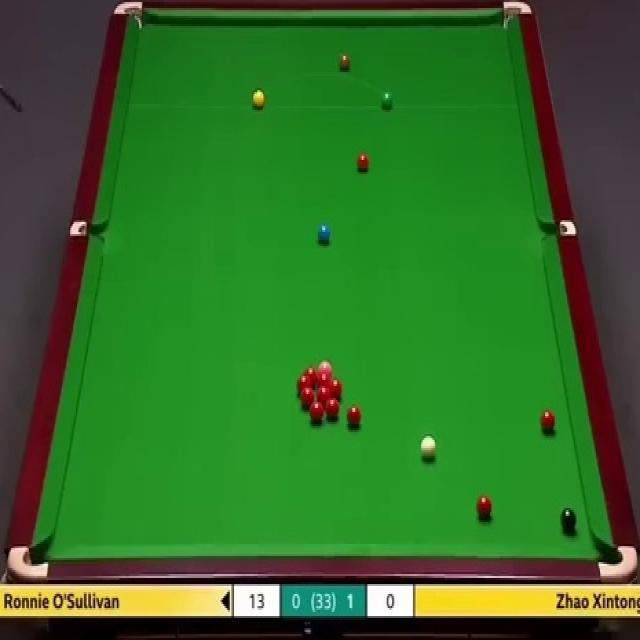black-ball: (560, 506, 577, 534)
blue-ball: (316, 223, 331, 246)
brown-ball: (339, 54, 352, 69)
green-ball: (380, 90, 394, 108)
pink-ball: (318, 362, 333, 372)
red-ball: (477, 494, 492, 518), (324, 396, 340, 418), (347, 406, 362, 426), (541, 410, 555, 430), (331, 378, 344, 399), (310, 402, 323, 422), (300, 388, 313, 408), (357, 152, 369, 173), (304, 366, 318, 383), (295, 376, 310, 389), (319, 370, 330, 386), (317, 388, 331, 398)
white-ball: (420, 439, 436, 463)
yellow-ball: (252, 89, 264, 109)
